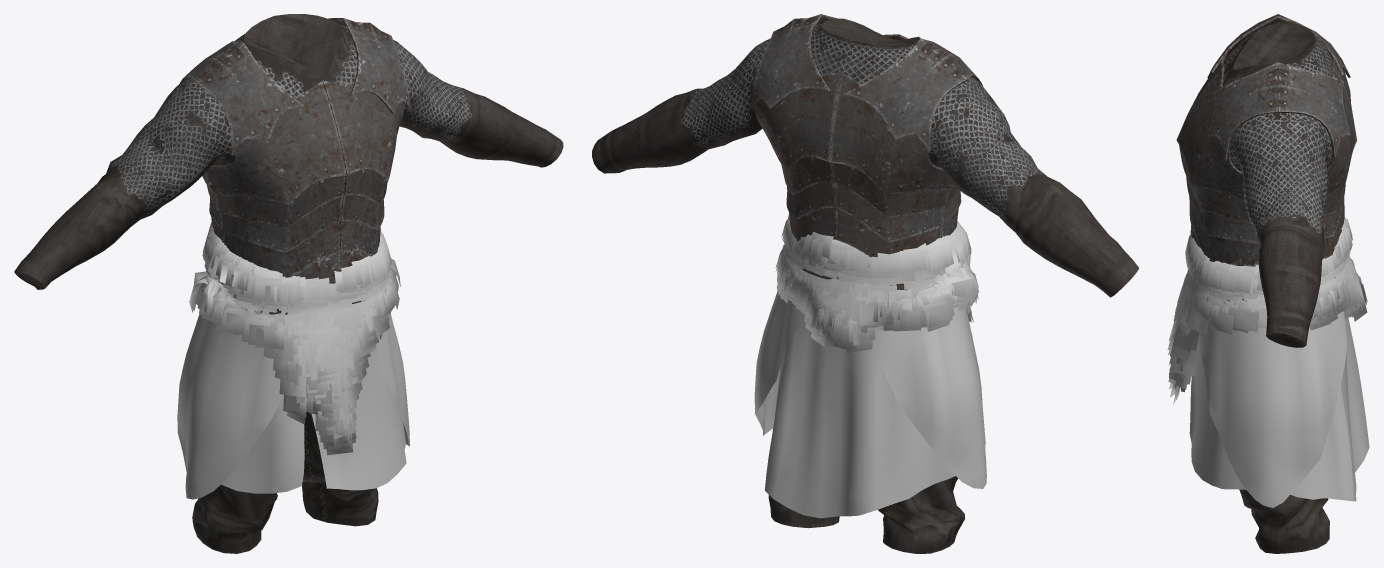
File: sk_gb_uruk_chest_heavy_b.fbx
3 views of the same model, side by side, from view 1: azimuth 30°, elevation 25°; view 2: azimuth 150°, elevation 25°; view 3: azimuth 270°, elevation 25° (orthographic). The views are drawn at different scales.
Parts seen in each view (by area): view 1: sk_gb_uruk_chest_heavy_b.base.2, sk_gb_uruk_chest_heavy_b.base.1, sk_gb_uruk_chest_heavy_b.skirt.1, sk_gb_uruk_chest_heavy_b.skirt.2, sk_gb_uruk_chest_heavy_b.base.0; view 2: sk_gb_uruk_chest_heavy_b.skirt.1, sk_gb_uruk_chest_heavy_b.base.2, sk_gb_uruk_chest_heavy_b.base.1, sk_gb_uruk_chest_heavy_b.skirt.2, sk_gb_uruk_chest_heavy_b.base.0; view 3: sk_gb_uruk_chest_heavy_b.skirt.1, sk_gb_uruk_chest_heavy_b.base.1, sk_gb_uruk_chest_heavy_b.base.2, sk_gb_uruk_chest_heavy_b.skirt.2, sk_gb_uruk_chest_heavy_b.base.0.
Boxes of the visible parts, box(x1,y1,x2,y2) form: sk_gb_uruk_chest_heavy_b.base.2: box(179, 18, 411, 283); sk_gb_uruk_chest_heavy_b.base.1: box(14, 14, 563, 289); sk_gb_uruk_chest_heavy_b.skirt.1: box(177, 313, 409, 499); sk_gb_uruk_chest_heavy_b.skirt.2: box(189, 222, 400, 455); sk_gb_uruk_chest_heavy_b.base.0: box(192, 412, 378, 553); sk_gb_uruk_chest_heavy_b.skirt.1: box(754, 291, 986, 518); sk_gb_uruk_chest_heavy_b.base.2: box(751, 14, 983, 257); sk_gb_uruk_chest_heavy_b.base.1: box(592, 18, 1138, 297); sk_gb_uruk_chest_heavy_b.skirt.2: box(775, 214, 979, 352); sk_gb_uruk_chest_heavy_b.base.0: box(768, 476, 965, 553); sk_gb_uruk_chest_heavy_b.skirt.1: box(1189, 310, 1369, 507); sk_gb_uruk_chest_heavy_b.base.1: box(1223, 23, 1332, 347); sk_gb_uruk_chest_heavy_b.base.2: box(1176, 14, 1356, 266); sk_gb_uruk_chest_heavy_b.skirt.2: box(1167, 217, 1367, 404); sk_gb_uruk_chest_heavy_b.base.0: box(1239, 489, 1329, 553).
Size of the model in its own units: 1.35 by 0.4584 by 1.2.
